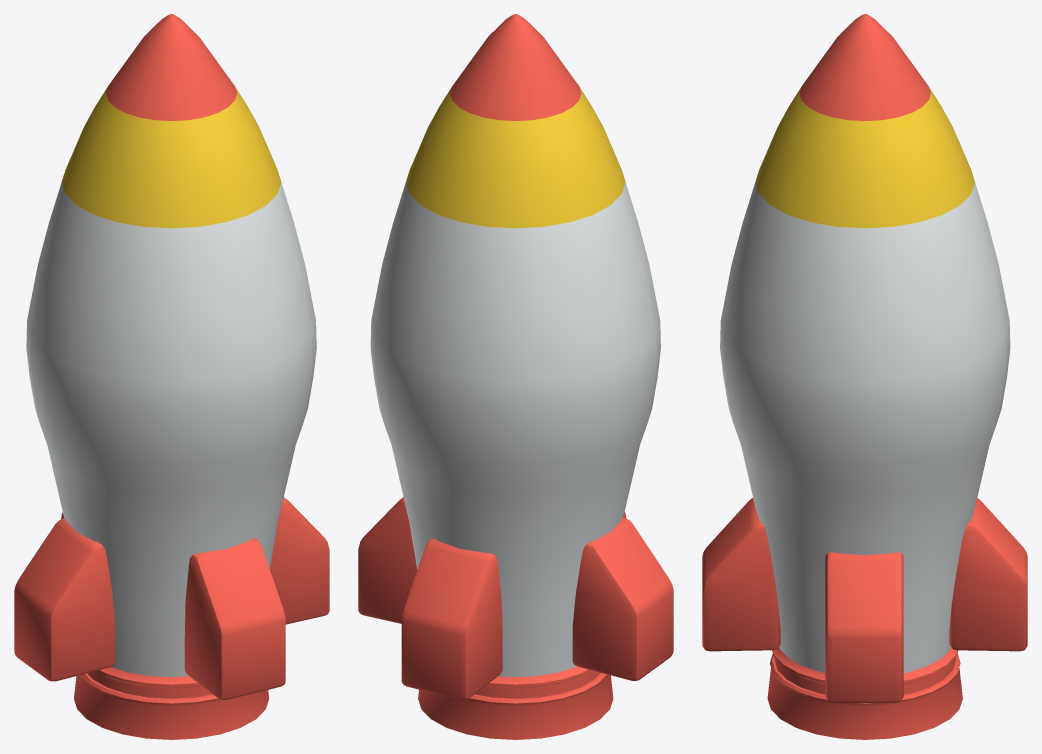
File: raketa.fbx
3 renders of one model, left to right at view 1: azimuth 30°, elevation 25°; view 2: azimuth 150°, elevation 25°; view 3: azimuth 270°, elevation 25°, orthographic.
Parts seen in each view (by area): view 1: Circle.012; view 2: Circle.012; view 3: Circle.012.
Boxes of the visible parts, x1,y1,x2,y2 form: Circle.012: (14,14,329,739); Circle.012: (358,14,673,739); Circle.012: (702,14,1027,739).
Bounding box in the file's own units: 0.368 × 0.8521 × 0.3679.
